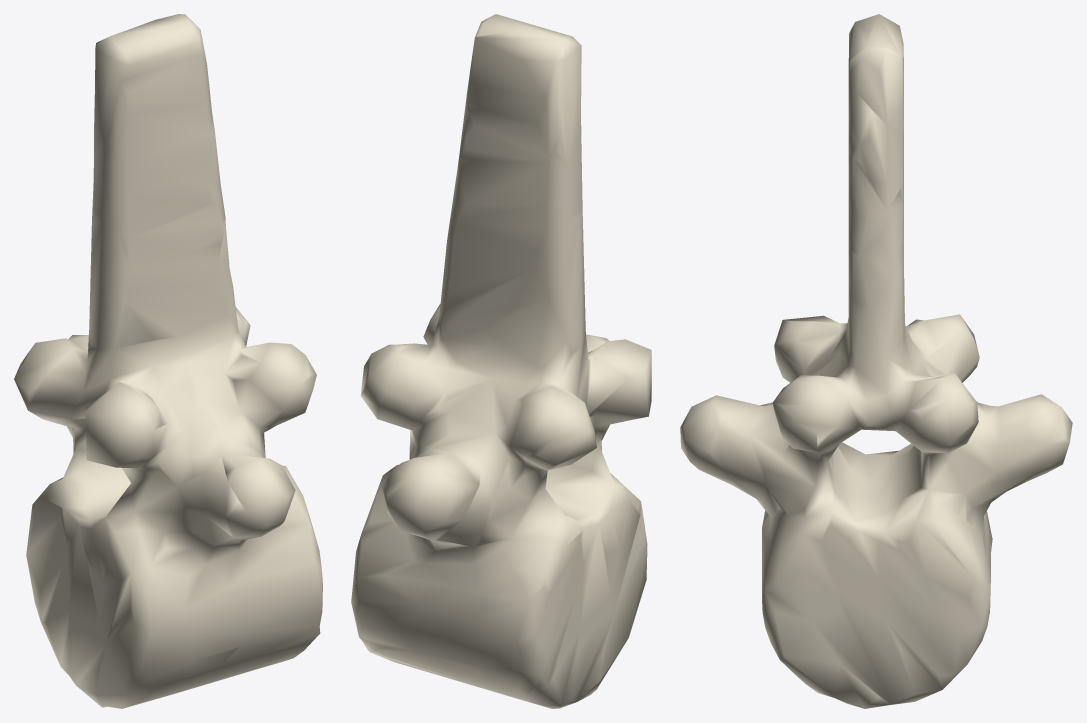
File: thoracic_12.glb
The picture shows the model from 3 angles, left to right: view 1: azimuth 30°, elevation 25°; view 2: azimuth 150°, elevation 25°; view 3: azimuth 270°, elevation 25°; orthographic projection. The views are drawn at different scales.
Parts seen in each view (by area): view 1: geometry_0; view 2: geometry_0; view 3: geometry_0.
Part boxes in pixels (x1,y1,x2,y2): geometry_0: [14, 14, 322, 708]; geometry_0: [351, 14, 651, 708]; geometry_0: [680, 14, 1072, 708].
Bounding box in the file's own units: 0.1275 × 0.3545 × 0.1992.
